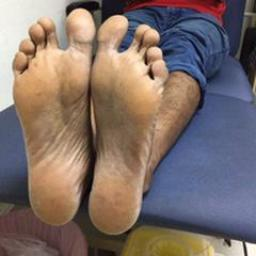Plantar View -Both Feet-: (6, 3, 170, 242)
